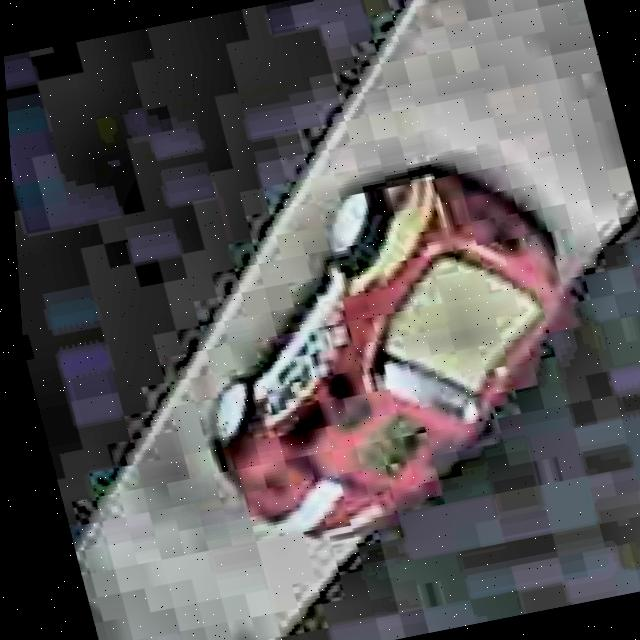car: (146, 138, 630, 564)
